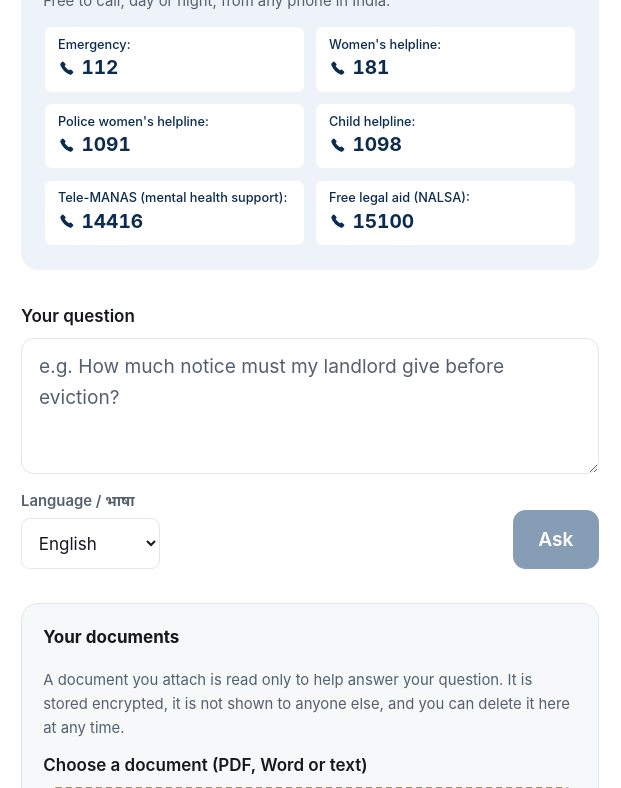
Test case: HomePage › puts a crisis answer first in DOM order even at the bottom of a long thread
(page scrolled)
Type "First question" into the text box labelled "Your question" at coordinates (310, 406), box [21,338,599,474]
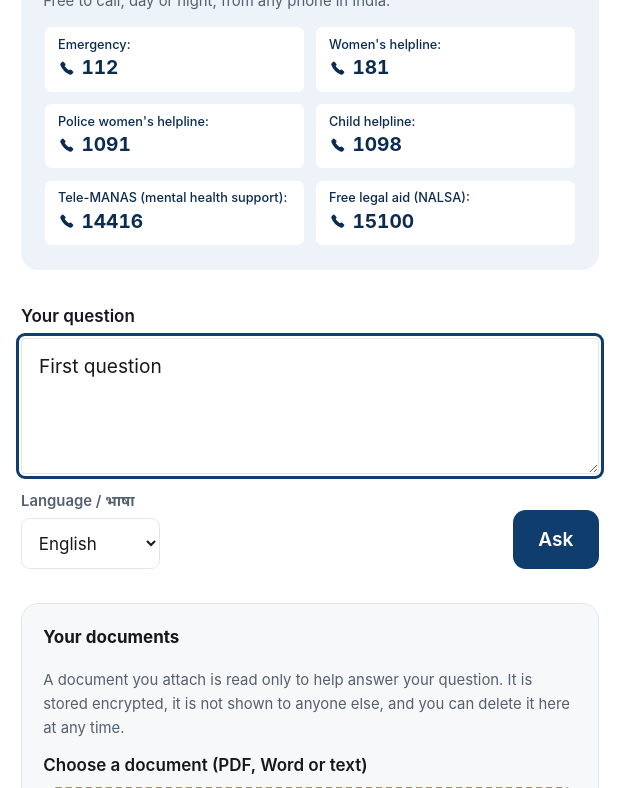
Click the button "Ask" at coordinates (556, 539), box [513,510,599,569]
(page scrolled)
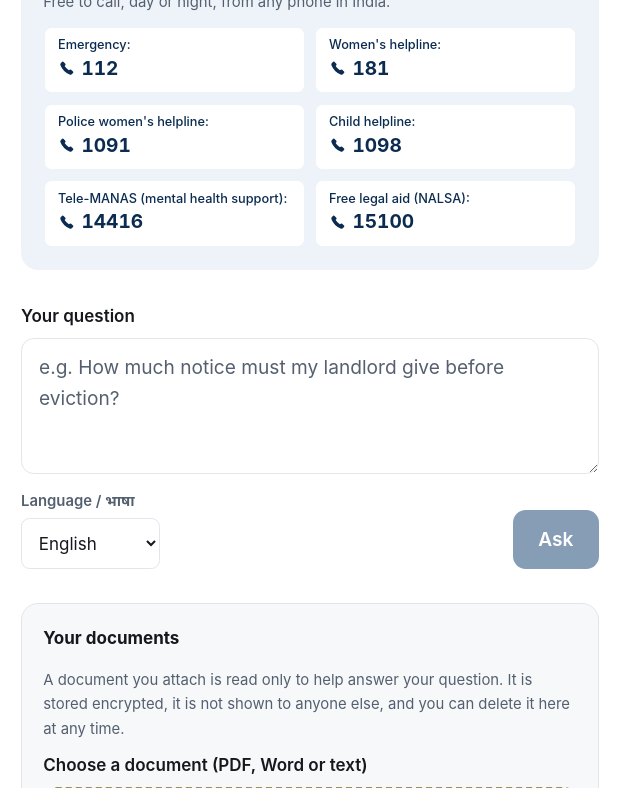
Type "he is hitting me" into the text box labelled "Your question" at coordinates (310, 406), box [21,338,599,474]
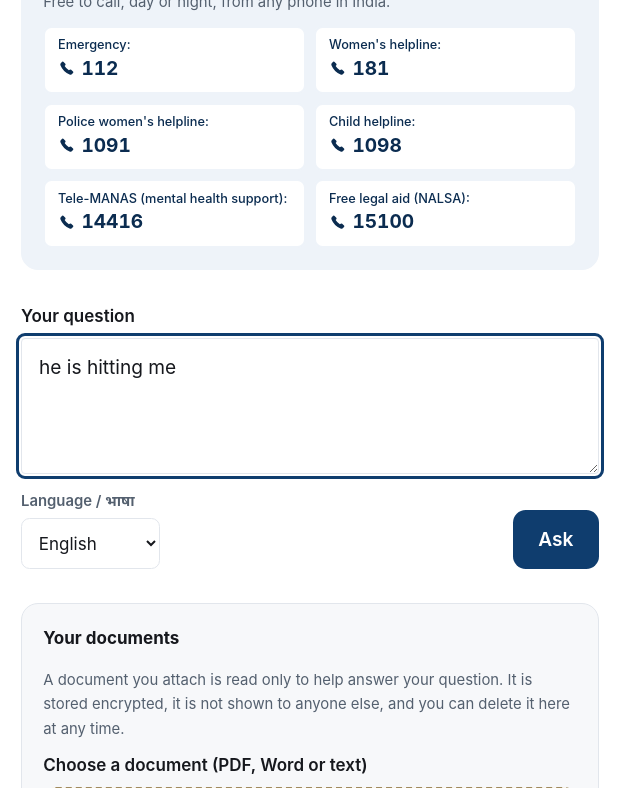
Click the button "Ask" at coordinates (556, 540), box [513,510,599,570]
(page scrolled)
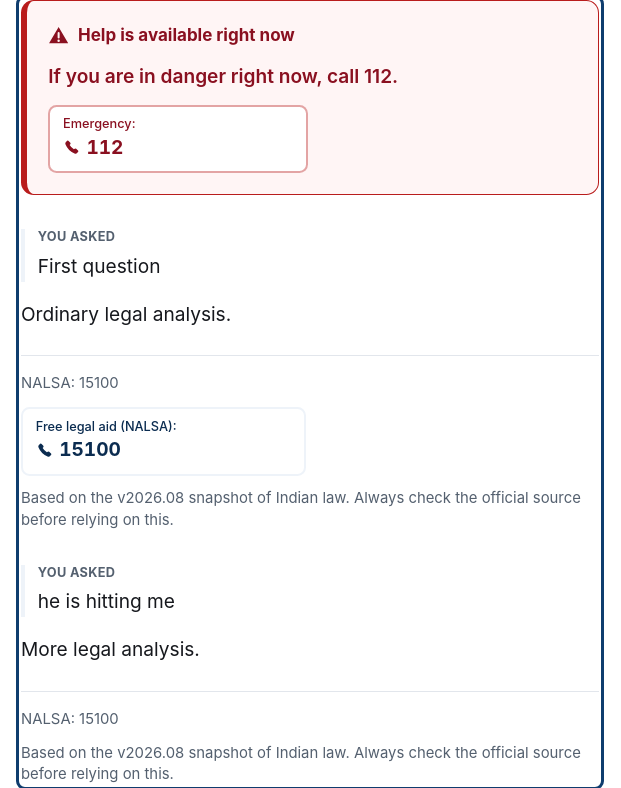
Expected: the text "More legal analysis." is shown, [21,637,200,661]
Expected: the number of messages with test id "crisis" is 1, [21,0,599,195]
Expected: the link to "tel:112" is shown, [48,105,308,173]
